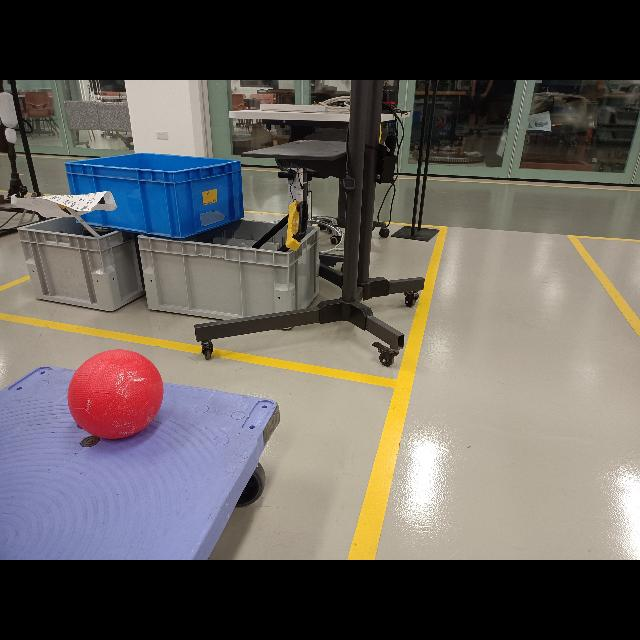R: (70, 350, 166, 438)
